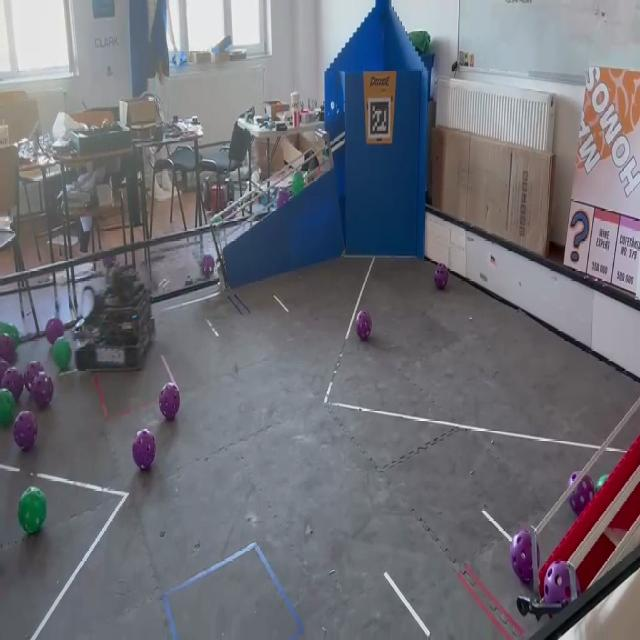artifact_green: (18, 487, 46, 534), (52, 337, 71, 371), (0, 389, 15, 427), (45, 317, 64, 345), (0, 333, 16, 365), (0, 323, 19, 347), (292, 172, 304, 195), (595, 475, 608, 492), (0, 357, 9, 381), (212, 214, 222, 225), (304, 172, 309, 184)
artifact_purple: (510, 529, 533, 584), (544, 561, 571, 606), (569, 472, 594, 515), (13, 411, 38, 451), (132, 429, 155, 470), (30, 373, 53, 408), (0, 367, 23, 402), (159, 383, 179, 421), (24, 362, 44, 392), (45, 318, 64, 345), (0, 334, 16, 365), (357, 310, 372, 341), (435, 264, 448, 289), (202, 254, 215, 277), (0, 358, 10, 382), (277, 189, 290, 207), (103, 256, 116, 270)
